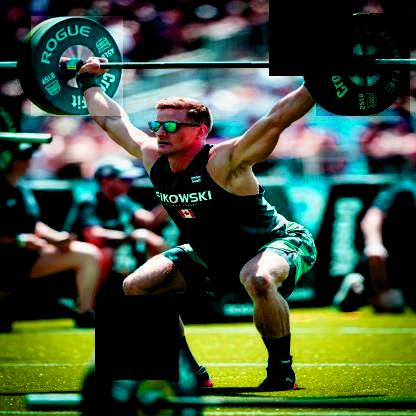barbell: (317, 14, 412, 117), (32, 18, 124, 118)
